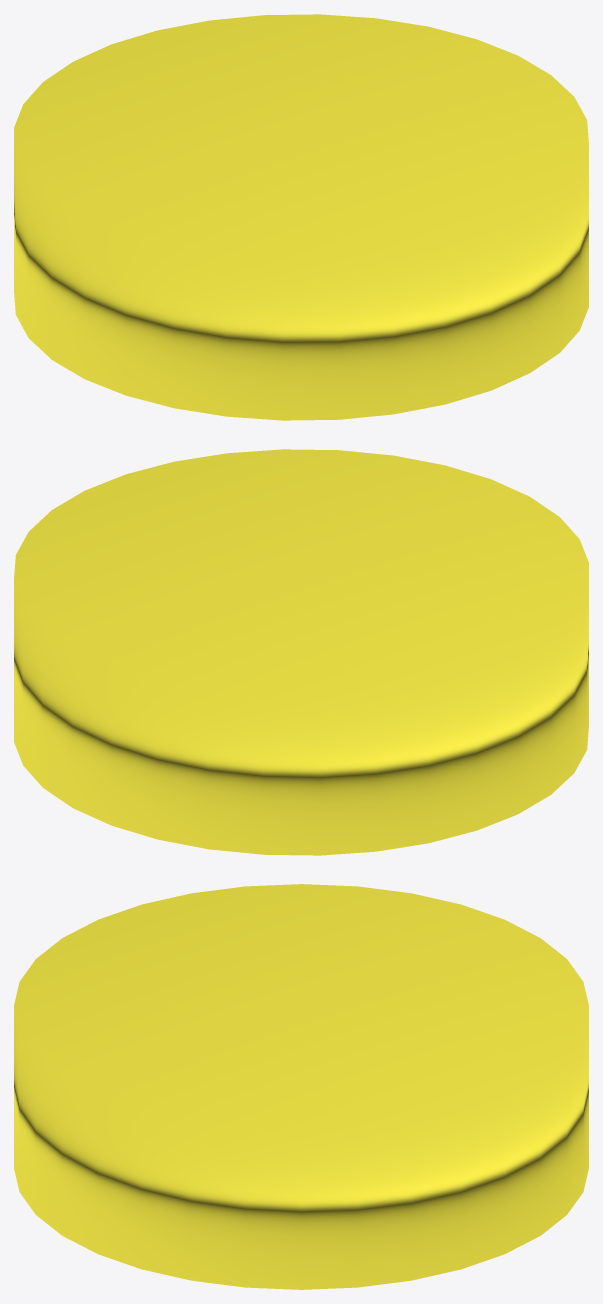
The model's file is SUV_Brake_Fluid_Cap_Yellow.glb.
The picture shows the model from 3 angles, top to bottom: view 1: azimuth 30°, elevation 25°; view 2: azimuth 150°, elevation 25°; view 3: azimuth 270°, elevation 25°; orthographic projection.
Visible parts, largest first — view 1: SUV_Brake_Fluid_Cap_Yellow; view 2: SUV_Brake_Fluid_Cap_Yellow; view 3: SUV_Brake_Fluid_Cap_Yellow.
Part boxes in pixels (x1,y1,x2,y2): SUV_Brake_Fluid_Cap_Yellow: (14, 14, 588, 420); SUV_Brake_Fluid_Cap_Yellow: (14, 449, 588, 855); SUV_Brake_Fluid_Cap_Yellow: (14, 884, 588, 1289).
Size of the model in its own units: 0.048 by 0.015 by 0.048.
